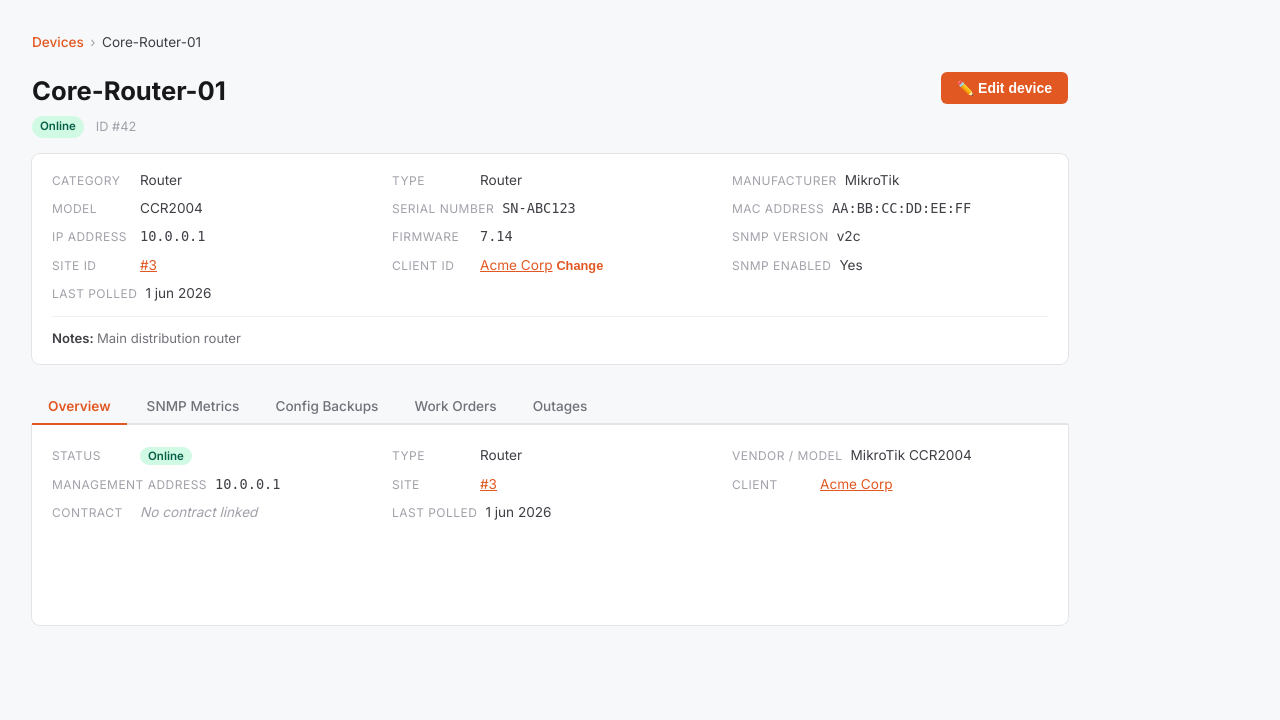
it: DeviceDetail page › client assignment › clicking Change reveals the ClientPicker seeded with the current client, plus Save/Cancel
The image size is (1280, 720).
Expected: the link "Acme Corp" next to "Client ID" is shown, [480,257,552,273]
Click the button "Change" at (580, 265), box [556,258,603,273]
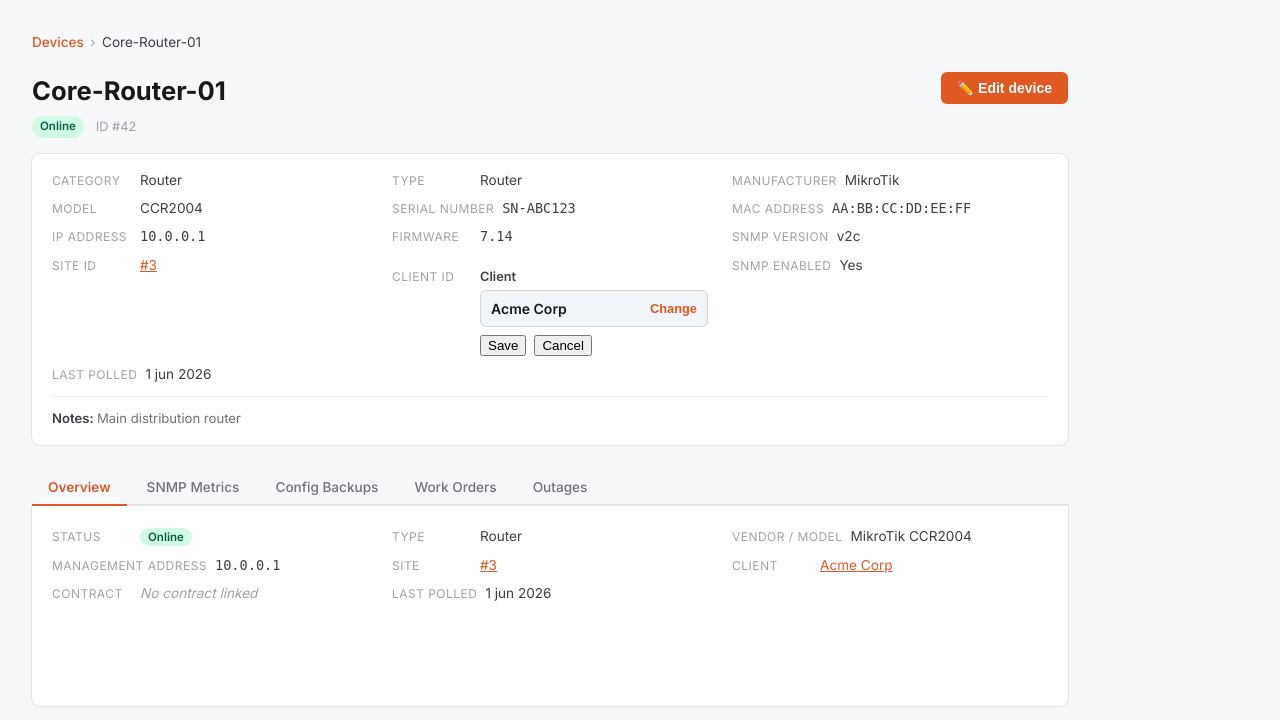
Expected: the text "Acme Corp" is shown, [491,300,567,317]
Result: the button "Save" is shown at [480,335,526,356]
Result: the button "Cancel" is shown at [534,335,592,356]
